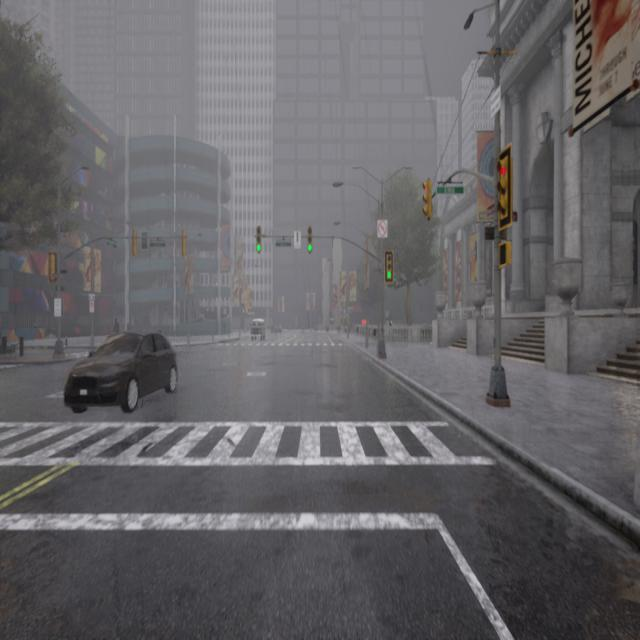11: (376, 220, 388, 242)
5: (496, 157, 512, 180), (422, 180, 432, 196)
bien_chi_dan: (305, 245, 314, 258), (386, 271, 392, 282), (256, 244, 260, 255)
bien_nguy_hiem: (492, 152, 518, 255), (420, 179, 434, 230), (254, 226, 271, 261), (304, 226, 318, 262), (380, 252, 393, 288)
